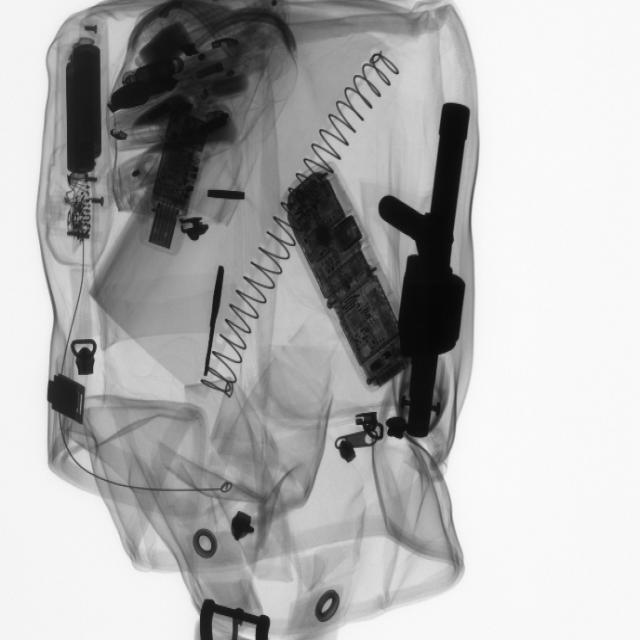GUN: (388, 93, 483, 448)
